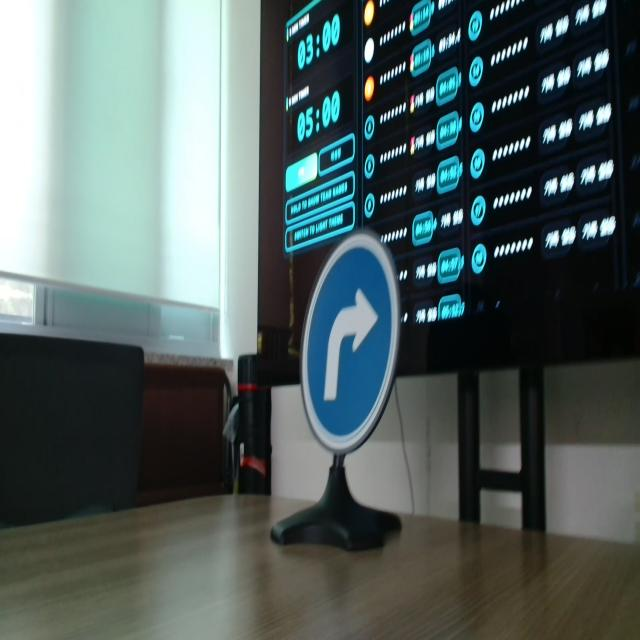right_dierection: (300, 233, 400, 458)
